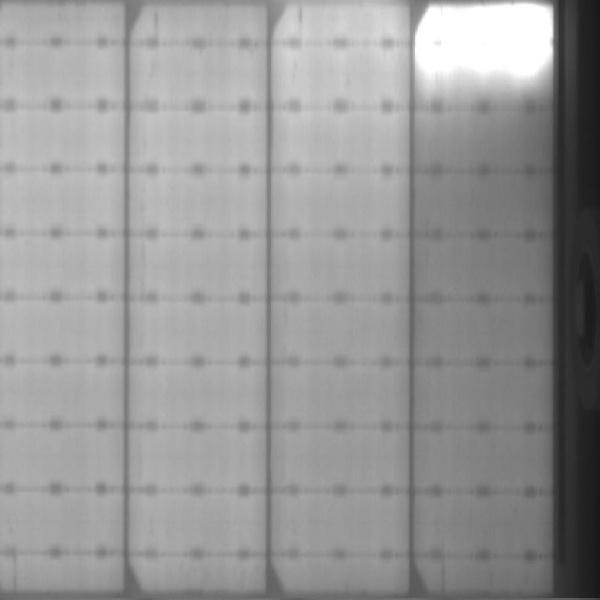hot_spot: (429, 11, 549, 40), (421, 39, 547, 65)
no_electricity: (559, 3, 600, 595)
